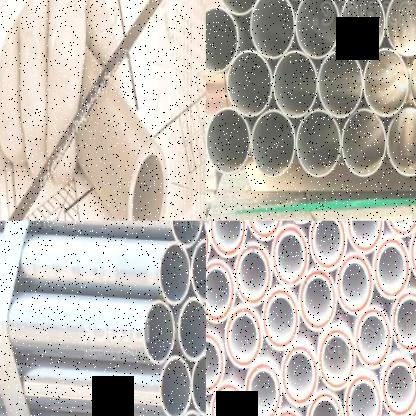pipe: (128, 142, 168, 221), (363, 48, 409, 116), (296, 109, 341, 178), (251, 110, 296, 178), (342, 108, 386, 177), (227, 50, 272, 117), (318, 50, 362, 118), (273, 51, 317, 119), (206, 108, 251, 174), (340, 0, 385, 57), (233, 242, 273, 306), (295, 0, 339, 58), (249, 0, 293, 58), (224, 306, 264, 369), (298, 270, 338, 332), (262, 286, 300, 351), (318, 326, 356, 391), (281, 344, 319, 407), (271, 225, 309, 287), (336, 253, 374, 315), (354, 307, 392, 369), (373, 236, 410, 299), (142, 300, 176, 365), (381, 354, 416, 416), (206, 8, 238, 74), (386, 107, 416, 176), (244, 362, 282, 416), (159, 355, 192, 416), (159, 240, 190, 304), (309, 220, 347, 270), (206, 258, 235, 322), (178, 296, 206, 361), (385, 0, 416, 56), (344, 372, 382, 416), (390, 289, 416, 353), (209, 221, 247, 258), (345, 220, 384, 254), (209, 382, 247, 416), (206, 332, 225, 395), (305, 390, 343, 416), (191, 351, 206, 416), (191, 238, 206, 302), (172, 221, 203, 247), (244, 221, 283, 241), (218, 0, 262, 15), (408, 47, 416, 116), (383, 220, 416, 236), (409, 220, 416, 283), (268, 408, 306, 416), (176, 409, 205, 416)
